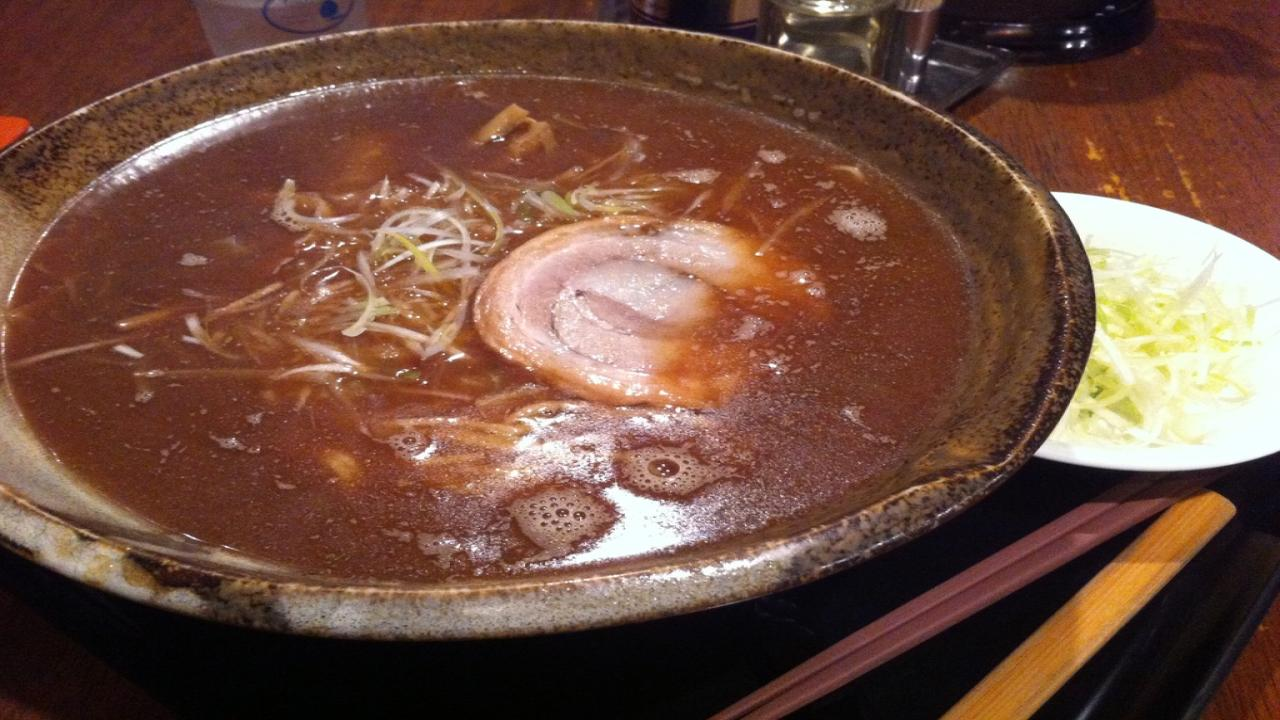chopstick: (725, 472, 1184, 720)
